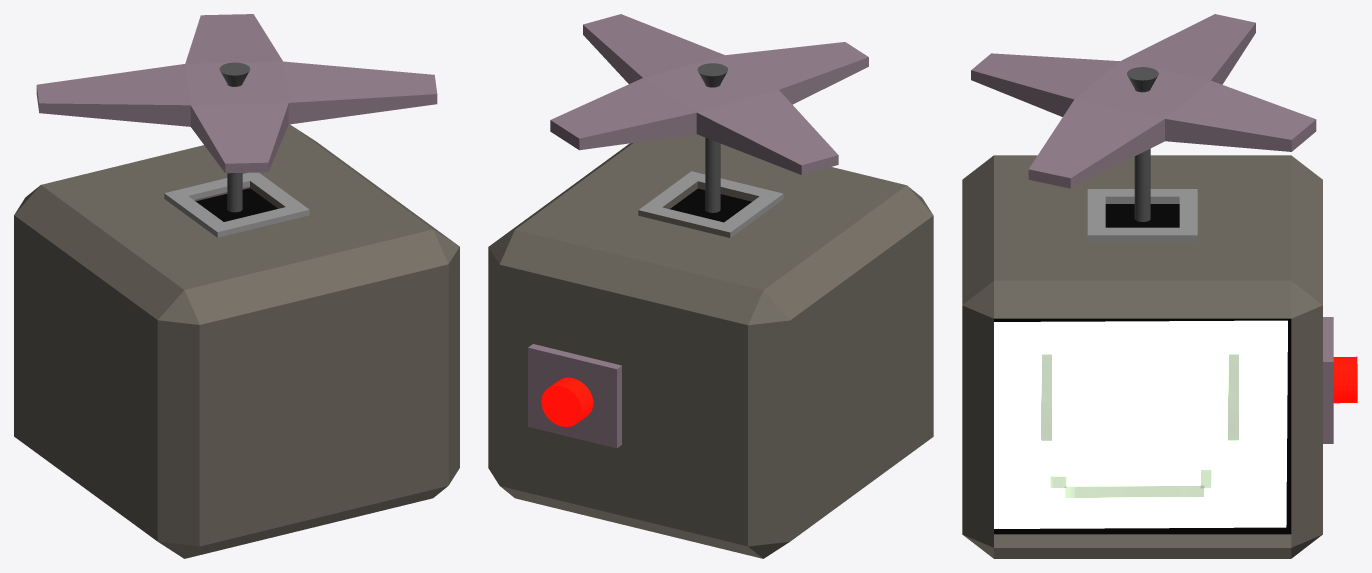
Rendered from talking 1.3.fbx.
3 renders of one model, left to right at view 1: azimuth 30°, elevation 25°; view 2: azimuth 150°, elevation 25°; view 3: azimuth 270°, elevation 25°, orthographic. The views are drawn at different scales.
Parts seen in each view (by area): view 1: robot body, fan.001, stick for fan; view 2: robot body, fan.001, button, stick for fan; view 3: robot body, happy face, fan.001, stick for fan, button.
Boxes of the visible parts, x1,y1,x2,y2 form: robot body: (14,124,459,558); fan.001: (36,14,437,173); stick for fan: (219,62,250,212); robot body: (488,134,933,558); fan.001: (550,14,868,174); button: (541,377,593,426); stick for fan: (697,63,728,212); robot body: (962,155,1333,558); happy face: (994,320,1287,528); fan.001: (971,14,1316,188); stick for fan: (1127,67,1158,221); button: (1333,356,1357,403).
Bounding box in the file's own units: 216 × 258 × 220.
